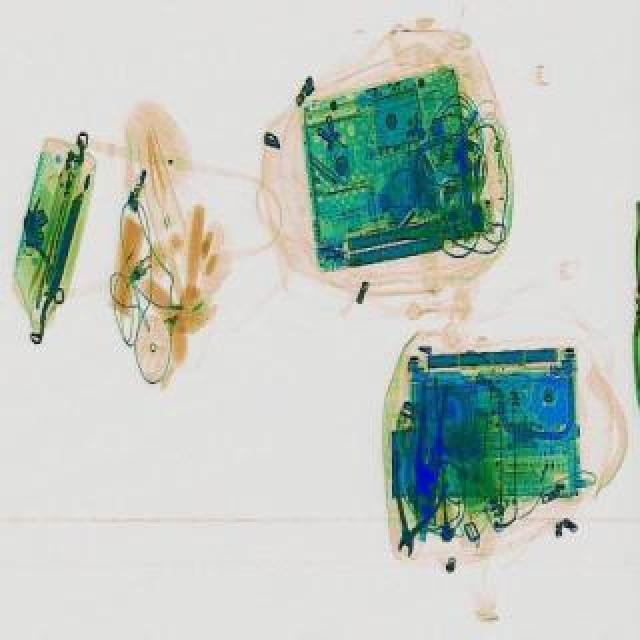wrench: (376, 458, 454, 566)
